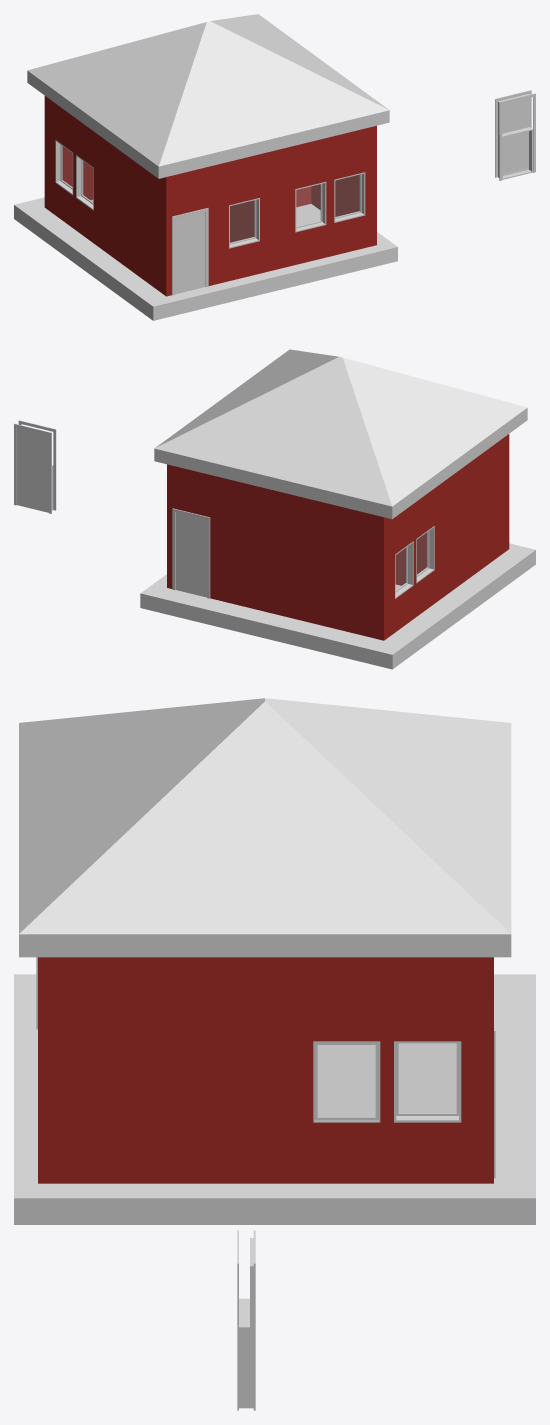
The picture shows the model from 3 angles, top to bottom: view 1: azimuth 30°, elevation 25°; view 2: azimuth 150°, elevation 25°; view 3: azimuth 270°, elevation 25°; orthographic projection. The views are drawn at different scales.
Parts seen in each view (by area): view 1: IfcSlab/Basic Roof:Generic Roof - 300mm:217659, IfcWall/Basic Wall:Wall 20 thick:215595, IfcSlab/Basic Roof:Generic Roof - 300mm:217659.001, IfcWall/Basic Wall:Wall 20 thick:215540, IfcSlab/Floor:Generic Floor - 400mm:217761, IfcDoor/M_Single-Flush:0915 x 2134mm:216359, IfcDoorType/M_Single-Flush:0915 x 2134mm, IfcSlab/Basic Roof:Generic Roof - 300mm:217659.002, IfcWall/Basic Wall:Wall 20 thick:215738, IfcWindow/M_Fixed:0915 x 1220mm:217290, IfcWindow/M_Fixed:0915 x 1220mm:217183, IfcWindow/M_Fixed:0915 x 1220mm:216949 (+5 smaller); view 2: IfcWall/Basic Wall:Wall 20 thick:215820, IfcSlab/Basic Roof:Generic Roof - 300mm:217659.003, IfcSlab/Basic Roof:Generic Roof - 300mm:217659.001, IfcWall/Basic Wall:Wall 20 thick:215540, IfcSlab/Floor:Generic Floor - 400mm:217761, IfcDoorType/M_Single-Flush:0915 x 2134mm, IfcDoor/M_Single-Flush:0915 x 2134mm:216614, IfcSlab/Basic Roof:Generic Roof - 300mm:217659.002, IfcWindow/M_Fixed:0915 x 1220mm:216711, IfcWindow/M_Fixed:0915 x 1220mm:216825, IfcWall/Basic Wall:Wall 20 thick:215663; view 3: IfcWall/Basic Wall:Wall 20 thick:215738, IfcSlab/Basic Roof:Generic Roof - 300mm:217659.002, IfcSlab/Floor:Generic Floor - 400mm:217761, IfcSlab/Basic Roof:Generic Roof - 300mm:217659.003, IfcSlab/Basic Roof:Generic Roof - 300mm:217659, IfcWindow/M_Fixed:0915 x 1220mm:216861, IfcWindow/M_Fixed:0915 x 1220mm:216895, IfcWall/Basic Wall:Wall 20 thick:215820, IfcDoorType/M_Single-Flush:0915 x 2134mm, IfcWindowType/M_Fixed:0915 x 1220mm.
Boxes of the visible parts, x1=… form: IfcSlab/Basic Roof:Generic Roof - 300mm:217659: x1=158, y1=21, x2=389, y2=178; IfcWall/Basic Wall:Wall 20 thick:215595: x1=173, y1=127, x2=370, y2=285; IfcSlab/Basic Roof:Generic Roof - 300mm:217659.001: x1=27, y1=22, x2=206, y2=178; IfcWall/Basic Wall:Wall 20 thick:215540: x1=44, y1=96, x2=172, y2=296; IfcSlab/Floor:Generic Floor - 400mm:217761: x1=14, y1=197, x2=397, y2=320; IfcDoor/M_Single-Flush:0915 x 2134mm:216359: x1=172, y1=208, x2=208, y2=295; IfcDoorType/M_Single-Flush:0915 x 2134mm: x1=495, y1=90, x2=535, y2=180; IfcSlab/Basic Roof:Generic Roof - 300mm:217659.002: x1=210, y1=14, x2=388, y2=109; IfcWall/Basic Wall:Wall 20 thick:215738: x1=311, y1=125, x2=376, y2=246; IfcWindow/M_Fixed:0915 x 1220mm:217290: x1=295, y1=181, x2=326, y2=232; IfcWindow/M_Fixed:0915 x 1220mm:217183: x1=334, y1=172, x2=365, y2=222; IfcWindow/M_Fixed:0915 x 1220mm:216949: x1=229, y1=198, x2=259, y2=248; IfcWall/Basic Wall:Wall 20 thick:215820: x1=167, y1=464, x2=376, y2=638; IfcSlab/Basic Roof:Generic Roof - 300mm:217659.003: x1=154, y1=356, x2=392, y2=518; IfcSlab/Basic Roof:Generic Roof - 300mm:217659.001: x1=343, y1=357, x2=527, y2=518; IfcWall/Basic Wall:Wall 20 thick:215540: x1=377, y1=434, x2=509, y2=640; IfcSlab/Floor:Generic Floor - 400mm:217761: x1=140, y1=543, x2=535, y2=669; IfcDoorType/M_Single-Flush:0915 x 2134mm: x1=14, y1=420, x2=56, y2=513; IfcDoor/M_Single-Flush:0915 x 2134mm:216614: x1=172, y1=508, x2=210, y2=598; IfcSlab/Basic Roof:Generic Roof - 300mm:217659.002: x1=155, y1=349, x2=338, y2=447; IfcWindow/M_Fixed:0915 x 1220mm:216711: x1=395, y1=541, x2=413, y2=598; IfcWindow/M_Fixed:0915 x 1220mm:216825: x1=416, y1=526, x2=434, y2=583; IfcWall/Basic Wall:Wall 20 thick:215663: x1=395, y1=532, x2=426, y2=585; IfcWall/Basic Wall:Wall 20 thick:215738: x1=38, y1=957, x2=478, y2=1183; IfcSlab/Basic Roof:Generic Roof - 300mm:217659.002: x1=19, y1=701, x2=511, y2=957; IfcSlab/Floor:Generic Floor - 400mm:217761: x1=14, y1=974, x2=535, y2=1224; IfcSlab/Basic Roof:Generic Roof - 300mm:217659.003: x1=265, y1=698, x2=511, y2=933; IfcSlab/Basic Roof:Generic Roof - 300mm:217659: x1=19, y1=698, x2=264, y2=933; IfcWindow/M_Fixed:0915 x 1220mm:216861: x1=394, y1=1041, x2=461, y2=1122; IfcWindow/M_Fixed:0915 x 1220mm:216895: x1=313, y1=1041, x2=380, y2=1122; IfcWall/Basic Wall:Wall 20 thick:215820: x1=479, y1=957, x2=493, y2=1183; IfcDoorType/M_Single-Flush:0915 x 2134mm: x1=237, y1=1230, x2=255, y2=1410; IfcWindowType/M_Fixed:0915 x 1220mm: x1=239, y1=1298, x2=253, y2=1408.
Bounding box in the file's own units: 13.02 × 6.28 × 7.1.
